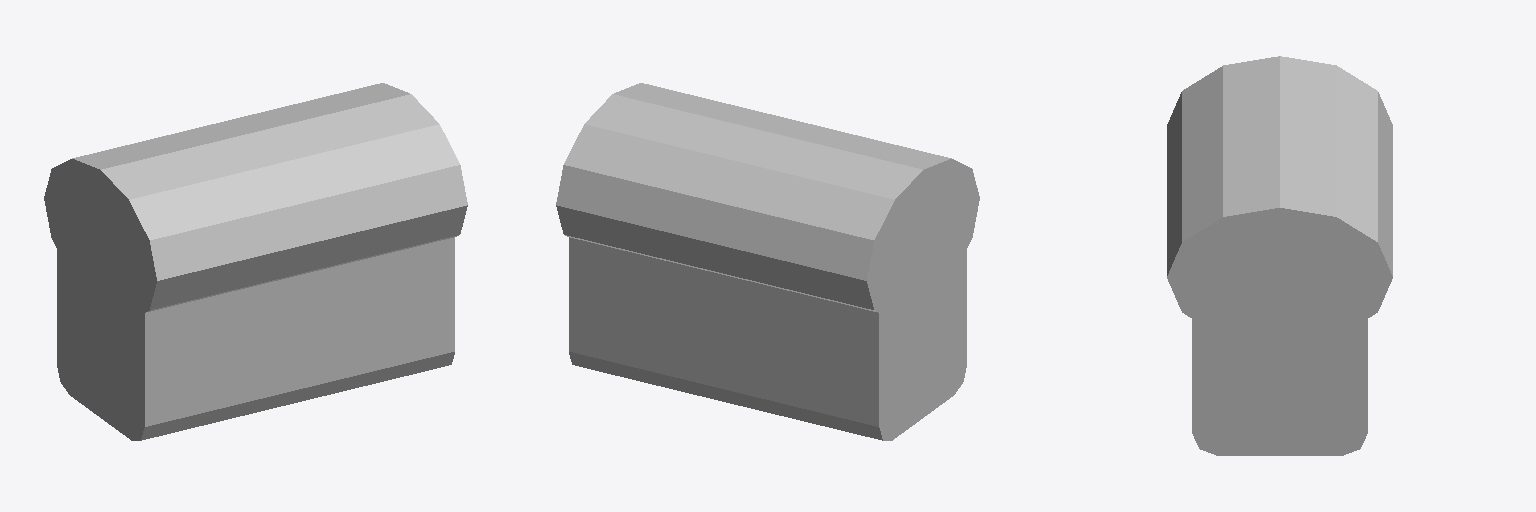
Rendered from loaf.obj.
3 views of the same model, side by side, from view 1: azimuth 30°, elevation 25°; view 2: azimuth 150°, elevation 25°; view 3: azimuth 270°, elevation 25° (orthographic).
Visible parts, largest first — view 1: loaf; view 2: loaf; view 3: loaf.
Boxes of the visible parts, <box> form: loaf: <box>44,83,467,440</box>; loaf: <box>556,83,979,440</box>; loaf: <box>1167,56,1392,455</box>.
Size of the model in its own units: 0.5797 by 0.4423 by 0.3659.